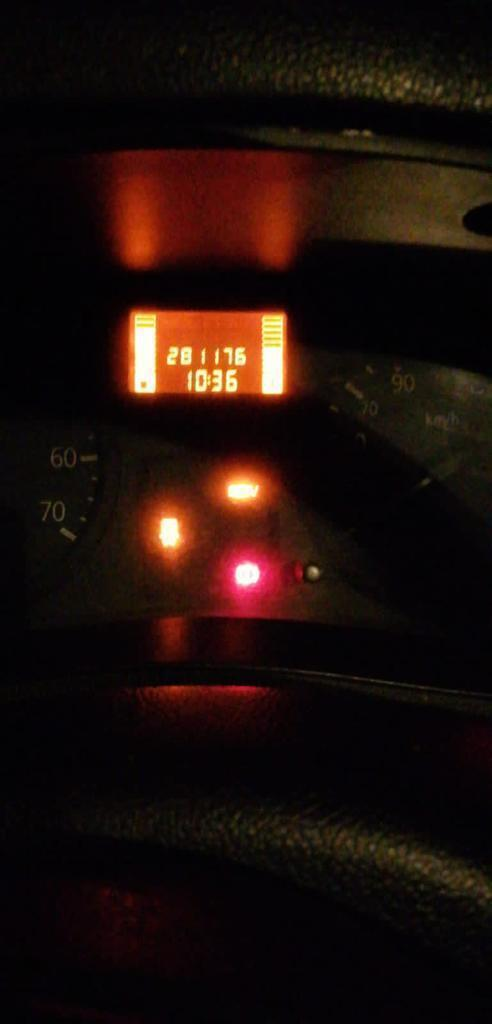0: (195, 368, 206, 392)
1: (185, 368, 192, 392), (213, 346, 220, 365), (200, 346, 207, 365)
2: (166, 345, 178, 366)
3: (211, 368, 222, 392)
6: (224, 368, 238, 392), (234, 346, 246, 366)
7: (222, 345, 233, 365)
8: (180, 345, 192, 366)
X: (206, 374, 210, 386)
odometer: (124, 306, 289, 397)
